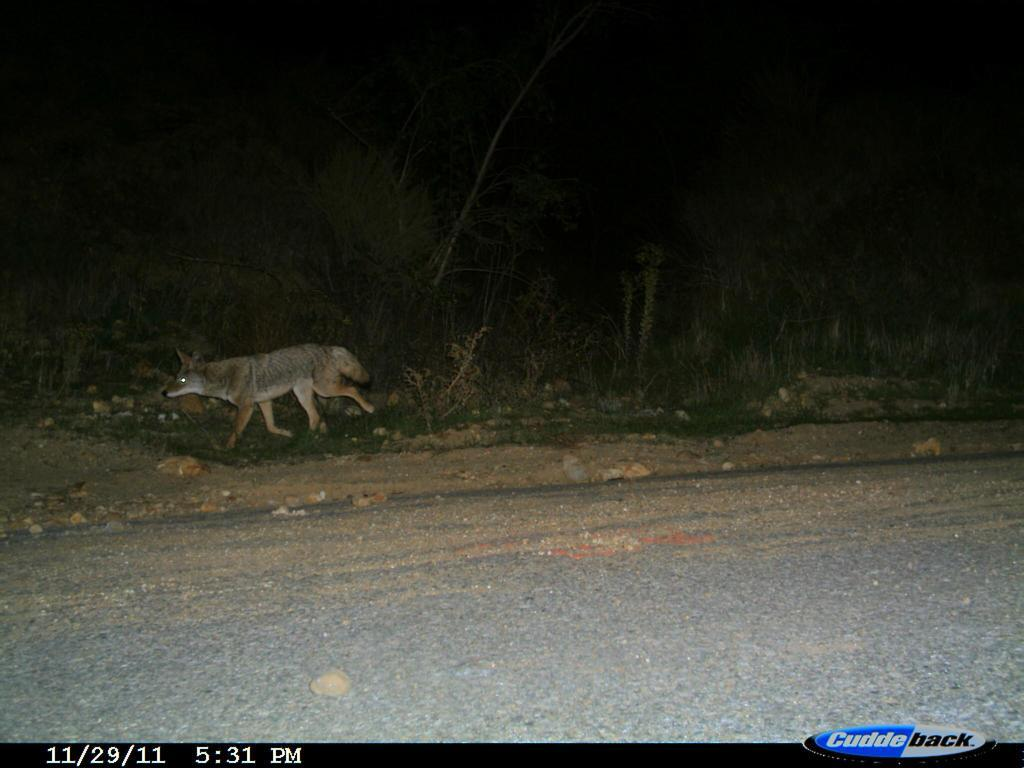coyote: (157, 332, 381, 465)
